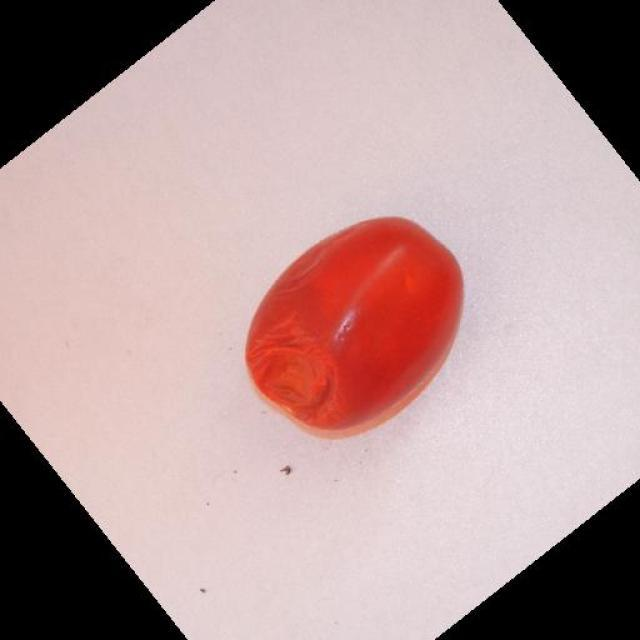Rotten Tomato: (240, 206, 467, 444)
